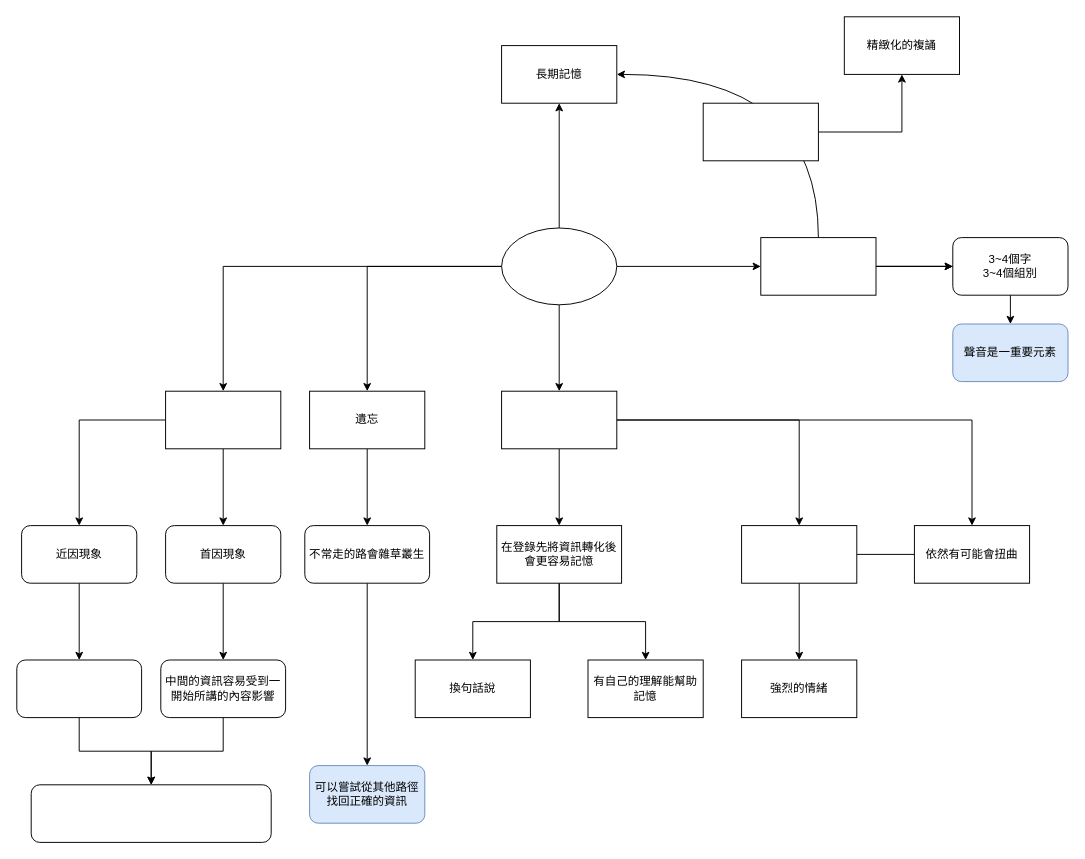
Image size: 1085x859. Some labels were removed from this diagram. Each missing label, with the centre of its shape:
中間的資訊容易受到最後所講的內容影響: (79,688)
分散式學習 轉換過的資訊 分類: (760,131)
干擾: (223,419)
登錄－儲存－提取: (559,419)
短期記憶: (818,266)
記憶: (559,266)
重要的事情放在一開始或是最後再說: (150,813)
閃光燈記憶: (799,554)
